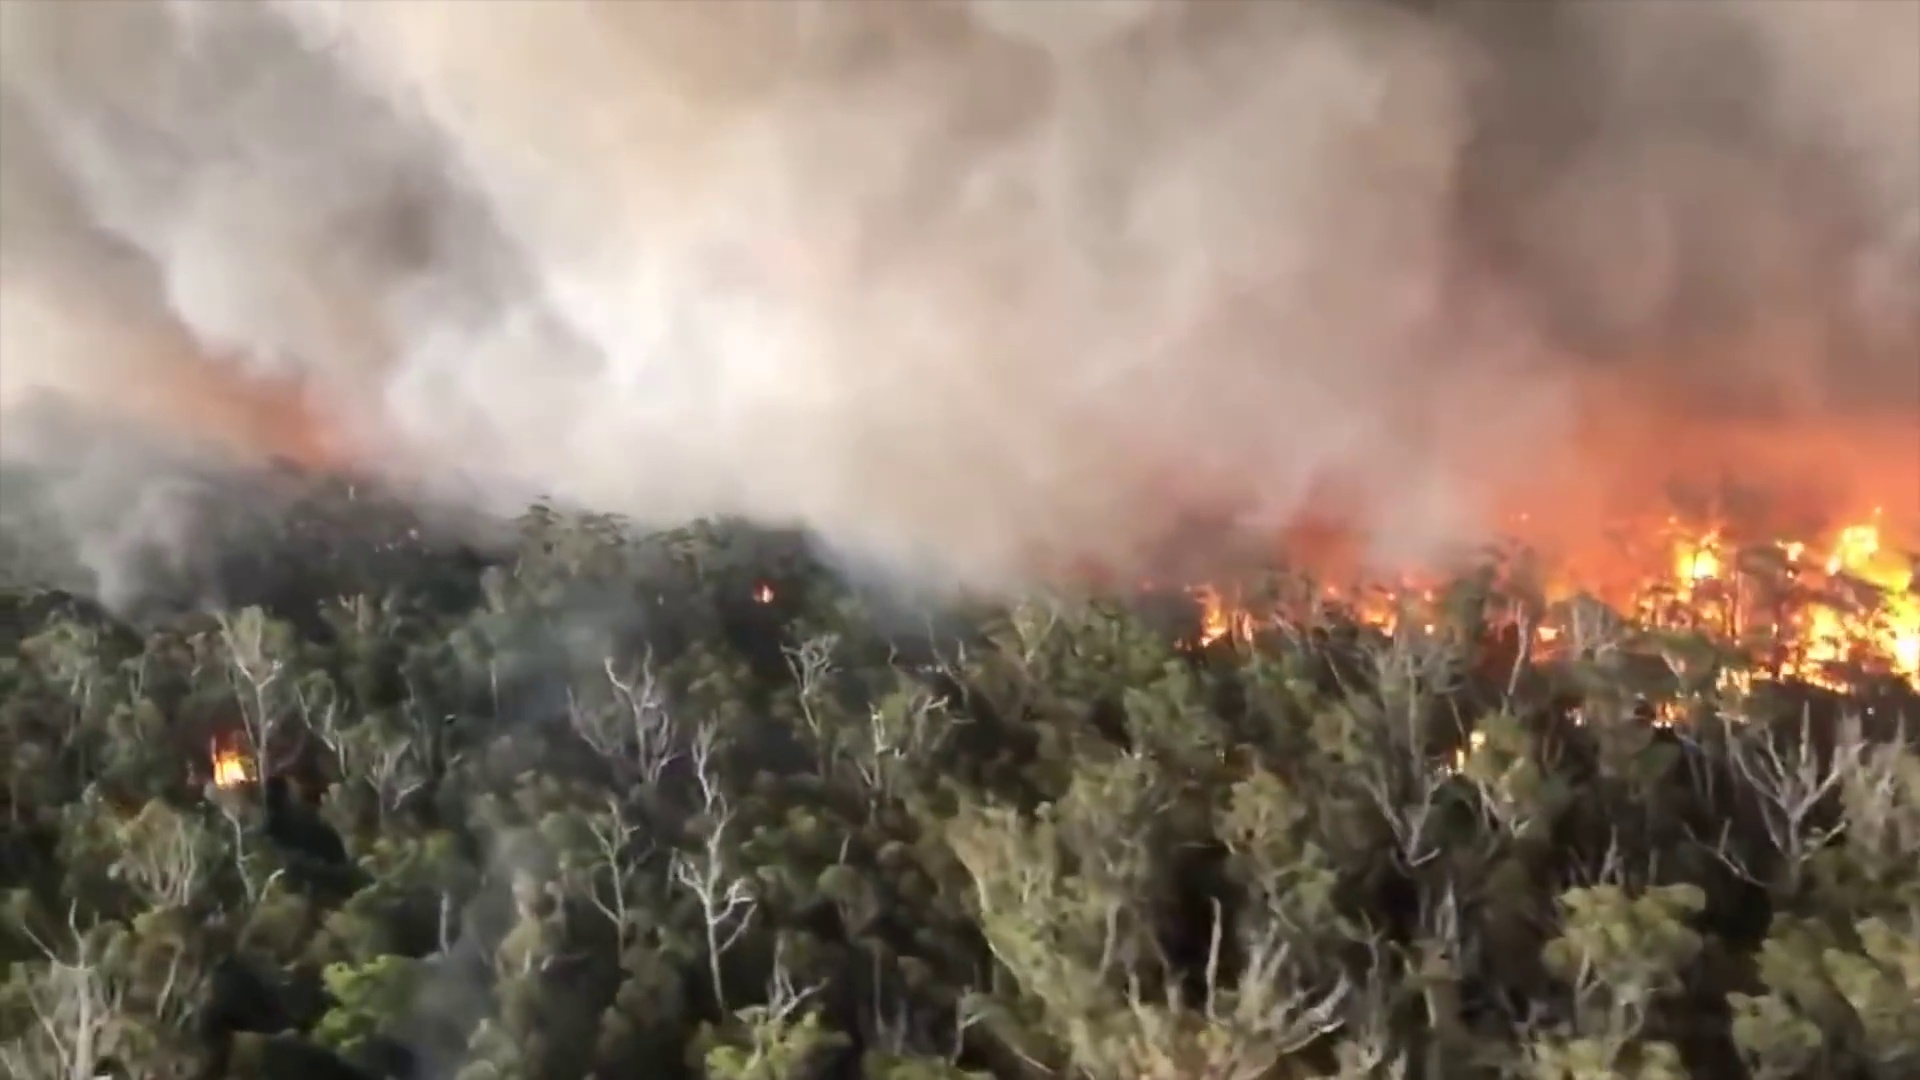fire: (1784, 531, 1920, 680), (1680, 527, 1716, 576), (212, 750, 251, 793)
